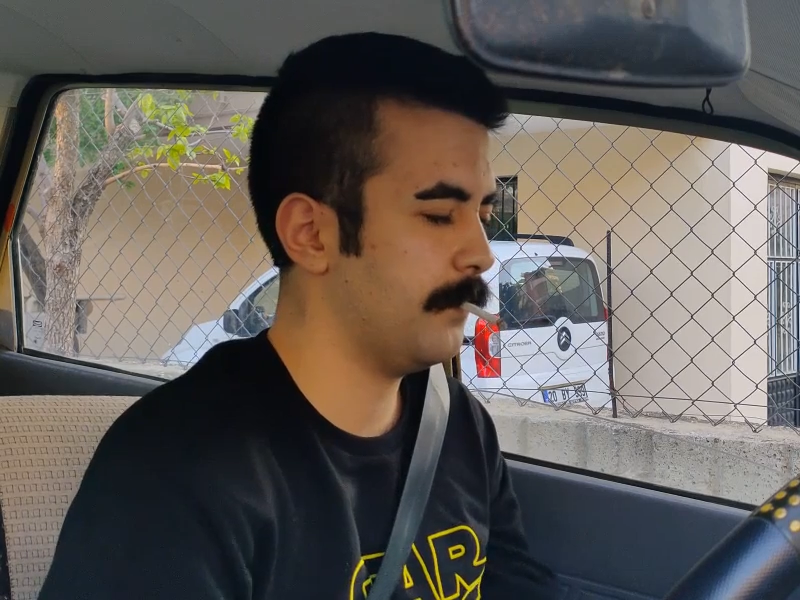sigara: (453, 296, 510, 335)
